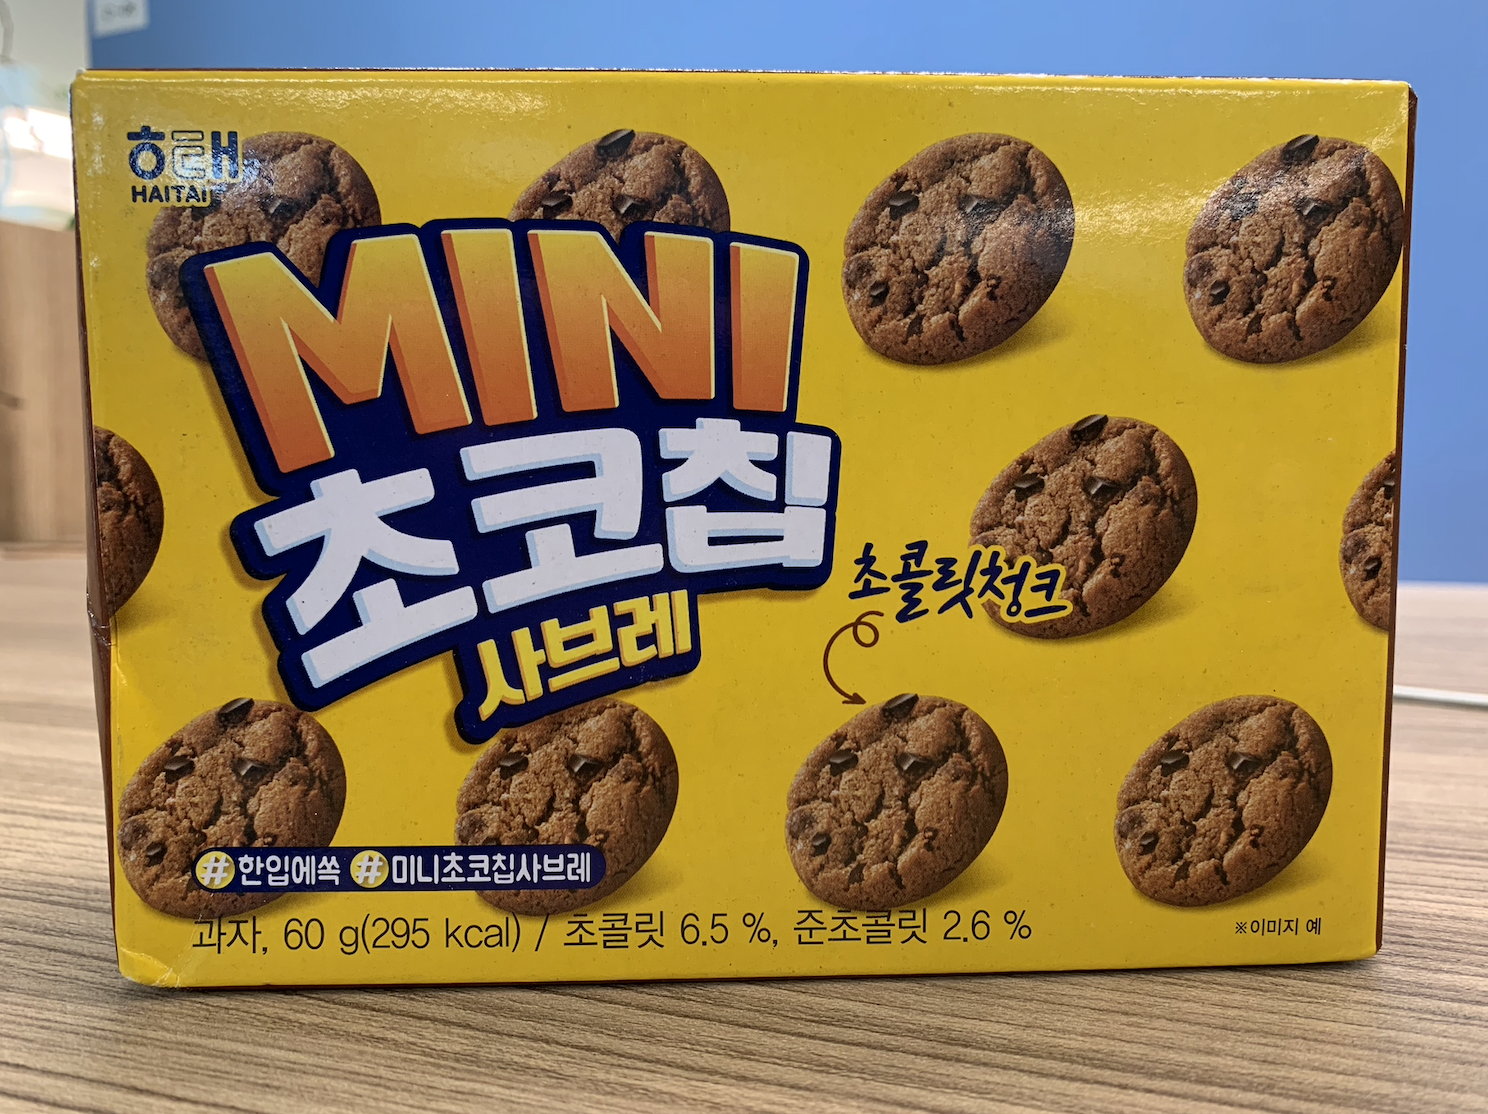cookies_1g-99g: (99, 80, 1357, 951)
